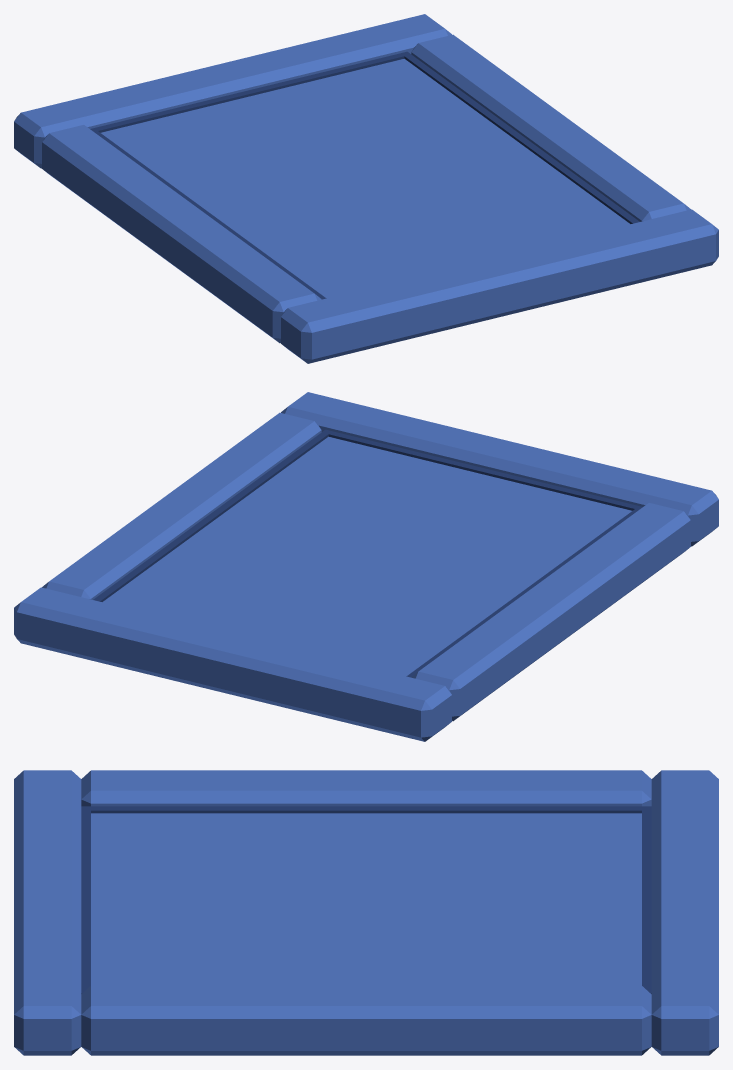
The model's file is Item_PortaRetrato.fbx.
3 views of the same model, one above another, from view 1: azimuth 30°, elevation 25°; view 2: azimuth 150°, elevation 25°; view 3: azimuth 270°, elevation 25° (orthographic). The views are drawn at different scales.
Parts seen in each view (by area): view 1: Item_PortaRetrato; view 2: Item_PortaRetrato; view 3: Item_PortaRetrato.
Part boxes in pixels (bbox=[...]): Item_PortaRetrato: bbox=[14, 14, 718, 363]; Item_PortaRetrato: bbox=[14, 392, 718, 741]; Item_PortaRetrato: bbox=[14, 770, 718, 1055].
Bounding box in the file's own units: 0.18 × 0.02 × 0.22.
Materials: 2 (2 with a texture image).
